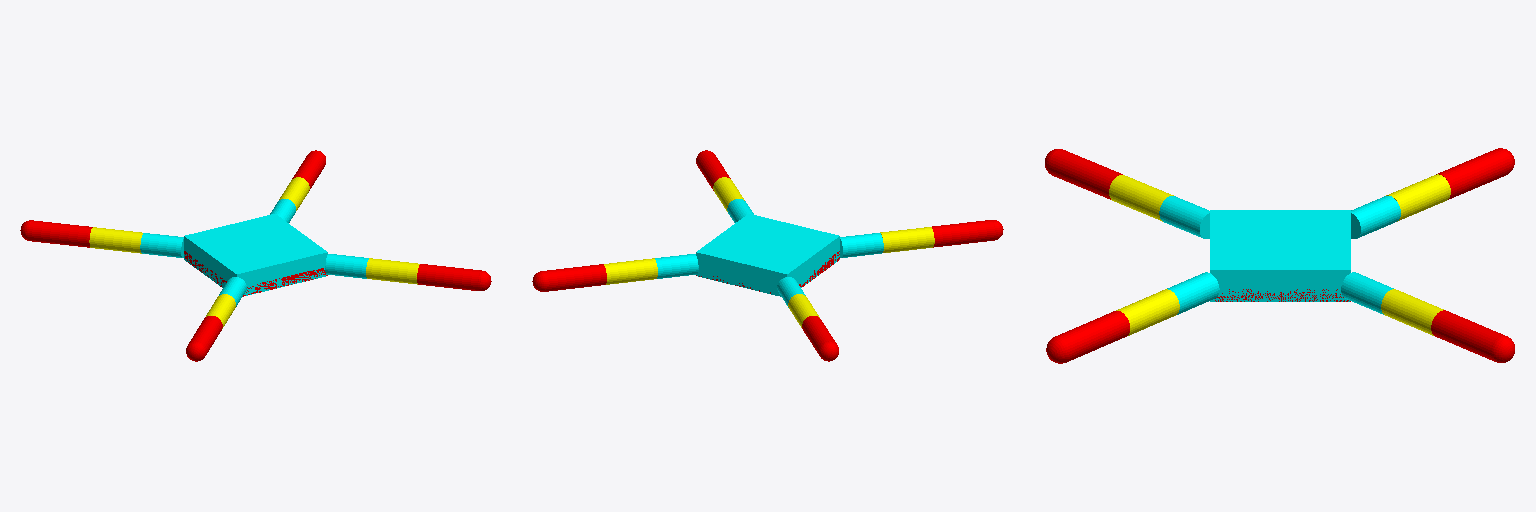
URDF robot description (spider):
<?xml version="1.0" ?>
<!-- =================================================================================== -->
<!-- |    This document was autogenerated by xacro from spider3.xacro                  | -->
<!-- |    EDITING THIS FILE BY HAND IS NOT RECOMMENDED                                 | -->
<!-- =================================================================================== -->
<robot name="spider" xmlns:xacro="http://www.ros.org/wiki/xacro">
  <link name="a+'_1'">
    <visual>
      <geometry>
        <cylinder length="0.4" radius="0.1"/>
      </geometry>
      <origin rpy="0 1.57285 0" xyz="0.2 0 0"/>
      <material name="cyan">
        <color rgba="0 1 1 1"/>
      </material>
    </visual>
  </link>
  <link name="a+'_2'">
    <visual>
      <geometry>
        <cylinder length="0.5" radius="0.1"/>
      </geometry>
      <origin rpy="0 1.57285 0" xyz="0.25 0 0"/>
      <material name="yellow">
        <color rgba="1 1 0 1"/>
      </material>
    </visual>
    <collision>
      <geometry>
        <cylinder length="0.5" radius="0.1"/>
      </geometry>
      <origin rpy="0 1.57285 0" xyz="0.25 0 0"/>
      <material name="yellow">
        <color rgba="1 1 0 1"/>
      </material>
    </collision>
  </link>
  <link name="a+'_3'">
    <visual>
      <geometry>
        <cylinder length="0.6" radius="0.1"/>
      </geometry>
      <origin rpy="0 1.57285 0" xyz="0.3 0 0"/>
      <material name="red">
        <color rgba="1 0 0 1"/>
      </material>
    </visual>
    <collision>
      <geometry>
        <cylinder length="0.6" radius="0.1"/>
      </geometry>
      <origin rpy="0 1.57285 0" xyz="0.3 0 0"/>
      <material name="red">
        <color rgba="1 0 0 1"/>
      </material>
    </collision>
  </link>
  <link name="a+'_4'">
    <visual>
      <geometry>
        <sphere radius="0.1"/>
      </geometry>
      <origin rpy="0 1.57285 0" xyz="0.3 0 0"/>
      <material name="red">
        <color rgba="1 0 0 1"/>
      </material>
    </visual>
    <collision>
      <geometry>
        <sphere radius="0.1"/>
      </geometry>
      <origin rpy="0 1.57285 0" xyz="0.3 0 0"/>
      <material name="red">
        <color rgba="1 0 0 1"/>
      </material>
    </collision>
  </link>
  <joint name="a+'_1_2'" type="revolute">
    <parent link="a+'_1'"/>
    <child link="a+'_2'"/>
    <origin rpy="0 0 0" xyz="0.4 0 0"/>
    <axis xyz="0 1 0"/>
    <limit effort="300" lower="-1.57" upper="1.57" velocity="0.1"/>
  </joint>
  <joint name="a+'_2_3'" type="revolute">
    <parent link="a+'_2'"/>
    <child link="a+'_3'"/>
    <origin rpy="0 0 0" xyz="0.5 0 0"/>
    <axis xyz="0 1 0"/>
    <limit effort="300" lower="-1.57" upper="1.57" velocity="0.1"/>
  </joint>
  <joint name="a+'_3_4'" type="fixed">
    <parent link="a+'_3'"/>
    <child link="a+'_4'"/>
    <origin xyz="0.3 0 0"/>
  </joint>
  <link name="b+'_1'">
    <visual>
      <geometry>
        <cylinder length="0.4" radius="0.1"/>
      </geometry>
      <origin rpy="0 1.57285 0" xyz="0.2 0 0"/>
      <material name="cyan">
        <color rgba="0 1 1 1"/>
      </material>
    </visual>
  </link>
  <link name="b+'_2'">
    <visual>
      <geometry>
        <cylinder length="0.5" radius="0.1"/>
      </geometry>
      <origin rpy="0 1.57285 0" xyz="0.25 0 0"/>
      <material name="yellow">
        <color rgba="1 1 0 1"/>
      </material>
    </visual>
    <collision>
      <geometry>
        <cylinder length="0.5" radius="0.1"/>
      </geometry>
      <origin rpy="0 1.57285 0" xyz="0.25 0 0"/>
      <material name="yellow">
        <color rgba="1 1 0 1"/>
      </material>
    </collision>
  </link>
  <link name="b+'_3'">
    <visual>
      <geometry>
        <cylinder length="0.6" radius="0.1"/>
      </geometry>
      <origin rpy="0 1.57285 0" xyz="0.3 0 0"/>
      <material name="red">
        <color rgba="1 0 0 1"/>
      </material>
    </visual>
    <collision>
      <geometry>
        <cylinder length="0.6" radius="0.1"/>
      </geometry>
      <origin rpy="0 1.57285 0" xyz="0.3 0 0"/>
      <material name="red">
        <color rgba="1 0 0 1"/>
      </material>
    </collision>
  </link>
  <link name="b+'_4'">
    <visual>
      <geometry>
        <sphere radius="0.1"/>
      </geometry>
      <origin rpy="0 1.57285 0" xyz="0.3 0 0"/>
      <material name="red">
        <color rgba="1 0 0 1"/>
      </material>
    </visual>
    <collision>
      <geometry>
        <sphere radius="0.1"/>
      </geometry>
      <origin rpy="0 1.57285 0" xyz="0.3 0 0"/>
      <material name="red">
        <color rgba="1 0 0 1"/>
      </material>
    </collision>
  </link>
  <joint name="b+'_1_2'" type="revolute">
    <parent link="b+'_1'"/>
    <child link="b+'_2'"/>
    <origin rpy="0 0 0" xyz="0.4 0 0"/>
    <axis xyz="0 1 0"/>
    <limit effort="300" lower="-1.57" upper="1.57" velocity="0.1"/>
  </joint>
  <joint name="b+'_2_3'" type="revolute">
    <parent link="b+'_2'"/>
    <child link="b+'_3'"/>
    <origin rpy="0 0 0" xyz="0.5 0 0"/>
    <axis xyz="0 1 0"/>
    <limit effort="300" lower="-1.57" upper="1.57" velocity="0.1"/>
  </joint>
  <joint name="b+'_3_4'" type="fixed">
    <parent link="b+'_3'"/>
    <child link="b+'_4'"/>
    <origin xyz="0.3 0 0"/>
  </joint>
  <link name="c+'_1'">
    <visual>
      <geometry>
        <cylinder length="0.4" radius="0.1"/>
      </geometry>
      <origin rpy="0 1.57285 0" xyz="0.2 0 0"/>
      <material name="cyan">
        <color rgba="0 1 1 1"/>
      </material>
    </visual>
  </link>
  <link name="c+'_2'">
    <visual>
      <geometry>
        <cylinder length="0.5" radius="0.1"/>
      </geometry>
      <origin rpy="0 1.57285 0" xyz="0.25 0 0"/>
      <material name="yellow">
        <color rgba="1 1 0 1"/>
      </material>
    </visual>
    <collision>
      <geometry>
        <cylinder length="0.5" radius="0.1"/>
      </geometry>
      <origin rpy="0 1.57285 0" xyz="0.25 0 0"/>
      <material name="yellow">
        <color rgba="1 1 0 1"/>
      </material>
    </collision>
  </link>
  <link name="c+'_3'">
    <visual>
      <geometry>
        <cylinder length="0.6" radius="0.1"/>
      </geometry>
      <origin rpy="0 1.57285 0" xyz="0.3 0 0"/>
      <material name="red">
        <color rgba="1 0 0 1"/>
      </material>
    </visual>
    <collision>
      <geometry>
        <cylinder length="0.6" radius="0.1"/>
      </geometry>
      <origin rpy="0 1.57285 0" xyz="0.3 0 0"/>
      <material name="red">
        <color rgba="1 0 0 1"/>
      </material>
    </collision>
  </link>
  <link name="c+'_4'">
    <visual>
      <geometry>
        <sphere radius="0.1"/>
      </geometry>
      <origin rpy="0 1.57285 0" xyz="0.3 0 0"/>
      <material name="red">
        <color rgba="1 0 0 1"/>
      </material>
    </visual>
    <collision>
      <geometry>
        <sphere radius="0.1"/>
      </geometry>
      <origin rpy="0 1.57285 0" xyz="0.3 0 0"/>
      <material name="red">
        <color rgba="1 0 0 1"/>
      </material>
    </collision>
  </link>
  <joint name="c+'_1_2'" type="revolute">
    <parent link="c+'_1'"/>
    <child link="c+'_2'"/>
    <origin rpy="0 0 0" xyz="0.4 0 0"/>
    <axis xyz="0 1 0"/>
    <limit effort="300" lower="-1.57" upper="1.57" velocity="0.1"/>
  </joint>
  <joint name="c+'_2_3'" type="revolute">
    <parent link="c+'_2'"/>
    <child link="c+'_3'"/>
    <origin rpy="0 0 0" xyz="0.5 0 0"/>
    <axis xyz="0 1 0"/>
    <limit effort="300" lower="-1.57" upper="1.57" velocity="0.1"/>
  </joint>
  <joint name="c+'_3_4'" type="fixed">
    <parent link="c+'_3'"/>
    <child link="c+'_4'"/>
    <origin xyz="0.3 0 0"/>
  </joint>
  <link name="d+'_1'">
    <visual>
      <geometry>
        <cylinder length="0.4" radius="0.1"/>
      </geometry>
      <origin rpy="0 1.57285 0" xyz="0.2 0 0"/>
      <material name="cyan">
        <color rgba="0 1 1 1"/>
      </material>
    </visual>
  </link>
  <link name="d+'_2'">
    <visual>
      <geometry>
        <cylinder length="0.5" radius="0.1"/>
      </geometry>
      <origin rpy="0 1.57285 0" xyz="0.25 0 0"/>
      <material name="yellow">
        <color rgba="1 1 0 1"/>
      </material>
    </visual>
    <collision>
      <geometry>
        <cylinder length="0.5" radius="0.1"/>
      </geometry>
      <origin rpy="0 1.57285 0" xyz="0.25 0 0"/>
      <material name="yellow">
        <color rgba="1 1 0 1"/>
      </material>
    </collision>
  </link>
  <link name="d+'_3'">
    <visual>
      <geometry>
        <cylinder length="0.6" radius="0.1"/>
      </geometry>
      <origin rpy="0 1.57285 0" xyz="0.3 0 0"/>
      <material name="red">
        <color rgba="1 0 0 1"/>
      </material>
    </visual>
    <collision>
      <geometry>
        <cylinder length="0.6" radius="0.1"/>
      </geometry>
      <origin rpy="0 1.57285 0" xyz="0.3 0 0"/>
      <material name="red">
        <color rgba="1 0 0 1"/>
      </material>
    </collision>
  </link>
  <link name="d+'_4'">
    <visual>
      <geometry>
        <sphere radius="0.1"/>
      </geometry>
      <origin rpy="0 1.57285 0" xyz="0.3 0 0"/>
      <material name="red">
        <color rgba="1 0 0 1"/>
      </material>
    </visual>
    <collision>
      <geometry>
        <sphere radius="0.1"/>
      </geometry>
      <origin rpy="0 1.57285 0" xyz="0.3 0 0"/>
      <material name="red">
        <color rgba="1 0 0 1"/>
      </material>
    </collision>
  </link>
  <joint name="d+'_1_2'" type="revolute">
    <parent link="d+'_1'"/>
    <child link="d+'_2'"/>
    <origin rpy="0 0 0" xyz="0.4 0 0"/>
    <axis xyz="0 1 0"/>
    <limit effort="300" lower="-1.57" upper="1.57" velocity="0.1"/>
  </joint>
  <joint name="d+'_2_3'" type="revolute">
    <parent link="d+'_2'"/>
    <child link="d+'_3'"/>
    <origin rpy="0 0 0" xyz="0.5 0 0"/>
    <axis xyz="0 1 0"/>
    <limit effort="300" lower="-1.57" upper="1.57" velocity="0.1"/>
  </joint>
  <joint name="d+'_3_4'" type="fixed">
    <parent link="d+'_3'"/>
    <child link="d+'_4'"/>
    <origin xyz="0.3 0 0"/>
  </joint>
  <link name="base_link">
    <visual>
      <geometry>
        <box size="1 1 0.25"/>
      </geometry>
      <origin rpy="0 0 0" xyz="0 0 0"/>
      <material name="cyan">
        <color rgba="0 1 1 1"/>
      </material>
    </visual>
  </link>
  <link name="base_link2">
    <visual>
      <geometry>
        <box size="1 1 0.1"/>
      </geometry>
      <origin rpy="0 0 0" xyz="0 0 0"/>
      <material name="cyan">
        <color rgba="1 0 0 1"/>
      </material>
    </visual>
    <collision>
      <geometry>
        <box size="1 1 0.1"/>
      </geometry>
      <origin rpy="0 0 0" xyz="0 0 0"/>
      <material name="cyan">
        <color rgba="1 0 0 1"/>
      </material>
    </collision>
  </link>
  <joint name="base" type="fixed">
    <parent link="base_link"/>
    <child link="base_link2"/>
    <origin xyz="0 0 -0.075"/>
  </joint>
  <joint name="joint_0_a" type="revolute">
    <parent link="base_link"/>
    <child link="a+'_1'"/>
    <origin rpy="0 0 0.786425" xyz="0.5 0.5 0"/>
    <axis xyz="0 0 1"/>
    <limit effort="300" lower="-1.57" upper="1.57" velocity="0.1"/>
  </joint>
  <joint name="joint_0_b" type="revolute">
    <parent link="base_link"/>
    <child link="b+'_1'"/>
    <origin rpy="0 0 2.359275" xyz="-0.5 0.5 0"/>
    <axis xyz="0 0 1"/>
    <limit effort="300" lower="-1.57" upper="1.57" velocity="0.1"/>
  </joint>
  <joint name="joint_0_c" type="revolute">
    <parent link="base_link"/>
    <child link="c+'_1'"/>
    <origin rpy="0 0 3.932125" xyz="-0.5 -0.5 0"/>
    <axis xyz="0 0 1"/>
    <limit effort="300" lower="-1.57" upper="1.57" velocity="0.1"/>
  </joint>
  <joint name="joint_0_d" type="revolute">
    <parent link="base_link"/>
    <child link="d+'_1'"/>
    <origin rpy="0 0 5.504975" xyz="0.5 -0.5 0"/>
    <axis xyz="0 0 1"/>
    <limit effort="300" lower="-1.57" upper="1.57" velocity="0.1"/>
  </joint>
</robot>

--- Facts derived from the render (not from the file) ---
Views: 3 orthographic renders of the robot side by side, from view 1: azimuth 30°, elevation 25°; view 2: azimuth 150°, elevation 25°; view 3: azimuth 270°, elevation 25°.
Robot: spider — 18 links, 17 joints (12 revolute, 5 fixed); root link base_link; default pose: every joint at zero.
Links seen in each view (by area): view 1: base_link, d+'_3', b+'_3', b+'_2', d+'_2', b+'_1', d+'_1', c+'_3', a+'_3', base_link2, a+'_2', c+'_2'; view 2: base_link, a+'_3', c+'_3', a+'_2', c+'_2', c+'_1', a+'_1', b+'_3', d+'_3', d+'_2', b+'_2'; view 3: base_link, c+'_3', a+'_3', b+'_3', d+'_3', c+'_2', a+'_2', b+'_2', d+'_2', c+'_1', b+'_1', a+'_1' (+1 smaller).
Boxes of the visible links, left/top/right/bottom form: base_link: left=184, top=214, right=327, bottom=295; d+'_3': left=417, top=264, right=480, bottom=290; b+'_3': left=28, top=220, right=92, bottom=247; b+'_2': left=89, top=227, right=142, bottom=253; d+'_2': left=366, top=258, right=419, bottom=284; b+'_1': left=140, top=233, right=183, bottom=257; d+'_1': left=325, top=254, right=368, bottom=278; c+'_3': left=189, top=316, right=222, bottom=354; a+'_3': left=292, top=152, right=325, bottom=190; base_link2: left=184, top=251, right=327, bottom=296; a+'_2': left=279, top=177, right=309, bottom=210; c+'_2': left=206, top=294, right=235, bottom=328; base_link: left=696, top=214, right=839, bottom=296; a+'_3': left=543, top=264, right=606, bottom=291; c+'_3': left=932, top=220, right=995, bottom=247; a+'_2': left=604, top=258, right=657, bottom=284; c+'_2': left=880, top=227, right=934, bottom=252; c+'_1': left=840, top=233, right=883, bottom=257; a+'_1': left=655, top=254, right=698, bottom=278; b+'_3': left=802, top=316, right=836, bottom=358; d+'_3': left=697, top=152, right=730, bottom=190; d+'_2': left=713, top=177, right=744, bottom=211; b+'_2': left=788, top=294, right=819, bottom=327; base_link: left=1210, top=210, right=1350, bottom=301; c+'_3': left=1049, top=150, right=1122, bottom=199; a+'_3': left=1431, top=310, right=1504, bottom=361; b+'_3': left=1436, top=149, right=1510, bottom=199; d+'_3': left=1055, top=311, right=1129, bottom=362; c+'_2': left=1109, top=175, right=1173, bottom=221; a+'_2': left=1381, top=289, right=1443, bottom=335; b+'_2': left=1386, top=174, right=1450, bottom=221; d+'_2': left=1116, top=289, right=1179, bottom=335; c+'_1': left=1159, top=196, right=1209, bottom=238; b+'_1': left=1351, top=196, right=1400, bottom=238; a+'_1': left=1341, top=272, right=1393, bottom=314.
Size in the robot's own frame: 3.33 by 3.33 by 0.25 metres.
Geometry: primitives only (box / cylinder / sphere), no mesh files.